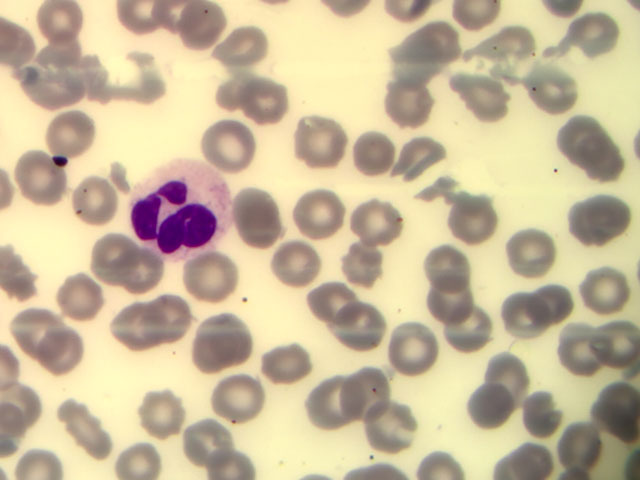RBC: (235, 193, 287, 245), (205, 114, 257, 166), (242, 81, 294, 133), (225, 19, 277, 71), (176, 3, 228, 55), (293, 115, 345, 167), (294, 188, 346, 240), (351, 198, 403, 250), (347, 133, 399, 185), (403, 134, 455, 186), (384, 73, 436, 125), (400, 19, 452, 71), (463, 72, 515, 124), (526, 58, 578, 110), (556, 109, 608, 161), (564, 192, 616, 244), (509, 224, 561, 276), (453, 190, 505, 242), (416, 235, 468, 287), (417, 275, 469, 327), (450, 300, 502, 352), (383, 322, 435, 374), (343, 306, 395, 358), (309, 277, 361, 329), (337, 240, 389, 292), (342, 361, 394, 413), (307, 377, 359, 429), (356, 401, 408, 453), (461, 387, 513, 439), (480, 357, 532, 409), (510, 380, 562, 432), (550, 327, 602, 379), (585, 325, 637, 377), (588, 260, 640, 312), (538, 280, 590, 332), (501, 290, 553, 342), (586, 377, 638, 429), (554, 418, 606, 470), (35, 1, 86, 44), (38, 31, 89, 74), (23, 68, 74, 111), (49, 112, 100, 155), (20, 159, 71, 202), (79, 187, 130, 230), (90, 239, 141, 282), (114, 253, 165, 296), (58, 275, 109, 318), (9, 309, 60, 352), (29, 330, 80, 373), (53, 407, 104, 450), (138, 388, 189, 431), (106, 303, 157, 346), (151, 298, 202, 341), (185, 253, 236, 296), (194, 319, 245, 362), (211, 376, 262, 419), (181, 419, 232, 462), (117, 437, 168, 480), (264, 346, 315, 389), (272, 244, 323, 287), (497, 439, 549, 478), (568, 11, 620, 50)
WBC: (126, 159, 238, 259)
